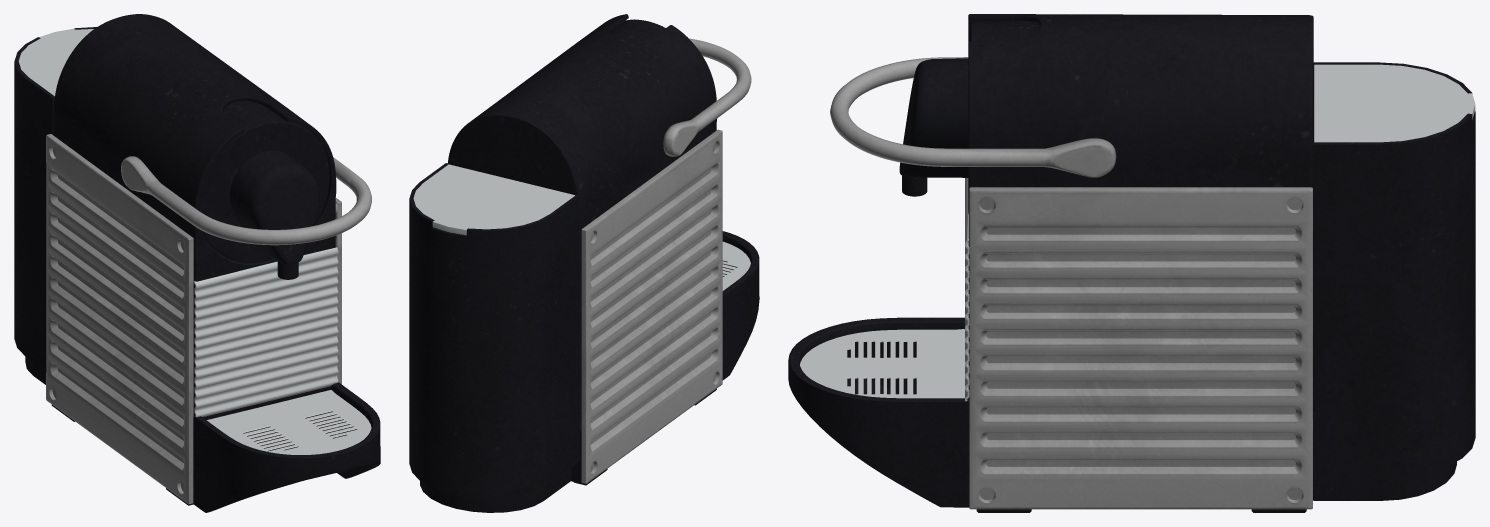
The picture shows the model from 3 angles, left to right: view 1: azimuth 30°, elevation 25°; view 2: azimuth 150°, elevation 25°; view 3: azimuth 270°, elevation 25°; orthographic projection. The views are drawn at different scales.
Visible parts, largest first — view 1: Sm_CoffeeMachine; view 2: Sm_CoffeeMachine; view 3: Sm_CoffeeMachine.
Boxes of the visible parts, <box> form: Sm_CoffeeMachine: <box>14,14,380,512</box>; Sm_CoffeeMachine: <box>409,14,759,512</box>; Sm_CoffeeMachine: <box>788,14,1475,512</box>.
Size of the model in its own units: 0.1734 by 0.3617 by 0.5046.
1 material, 1 textured.
